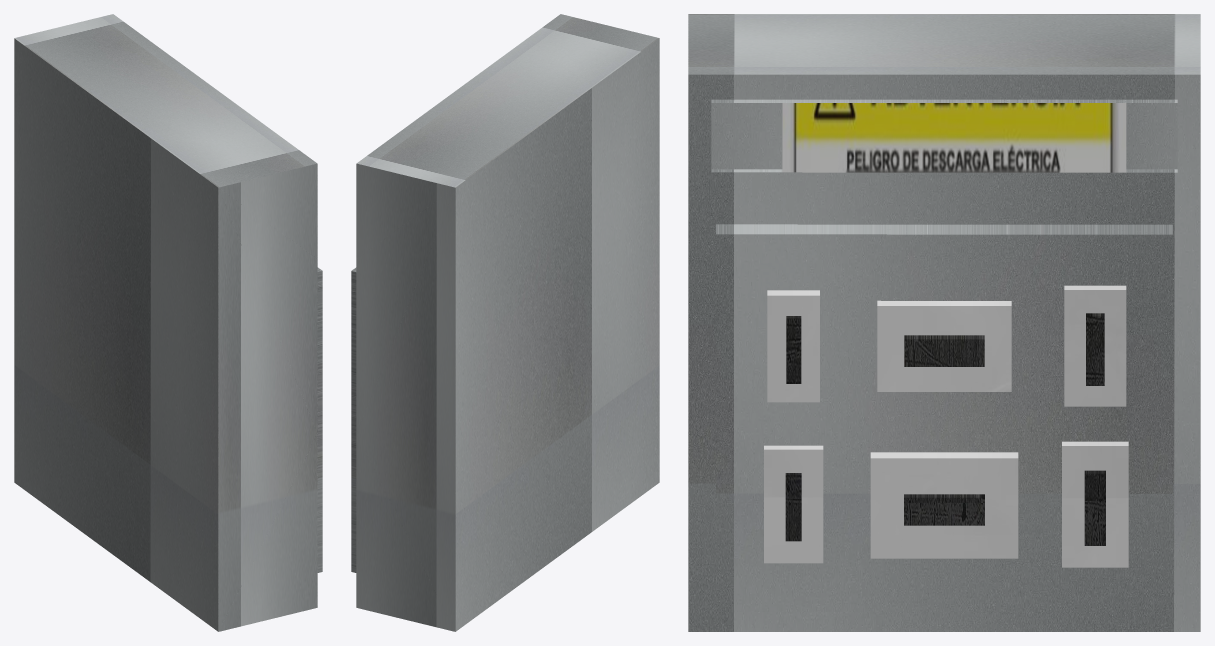
The model's file is Breaker.fbx.
3 renders of one model, left to right at view 1: azimuth 30°, elevation 25°; view 2: azimuth 150°, elevation 25°; view 3: azimuth 270°, elevation 25°, orthographic. The views are drawn at different scales.
Visible parts, largest first — view 1: Cube; view 2: Cube; view 3: Cube.
Boxes of the visible parts, left/top/right/bottom form: Cube: left=14, top=14, right=322, bottom=631; Cube: left=351, top=14, right=659, bottom=631; Cube: left=688, top=14, right=1200, bottom=631.
Size of the model in its own units: 184 by 600 by 500.
